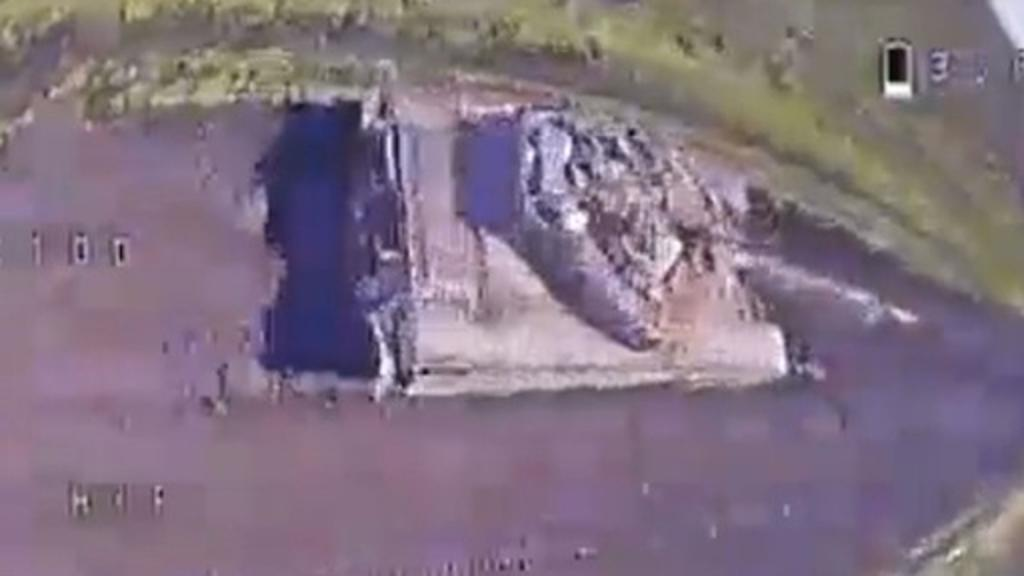TANK: (334, 68, 926, 396)
